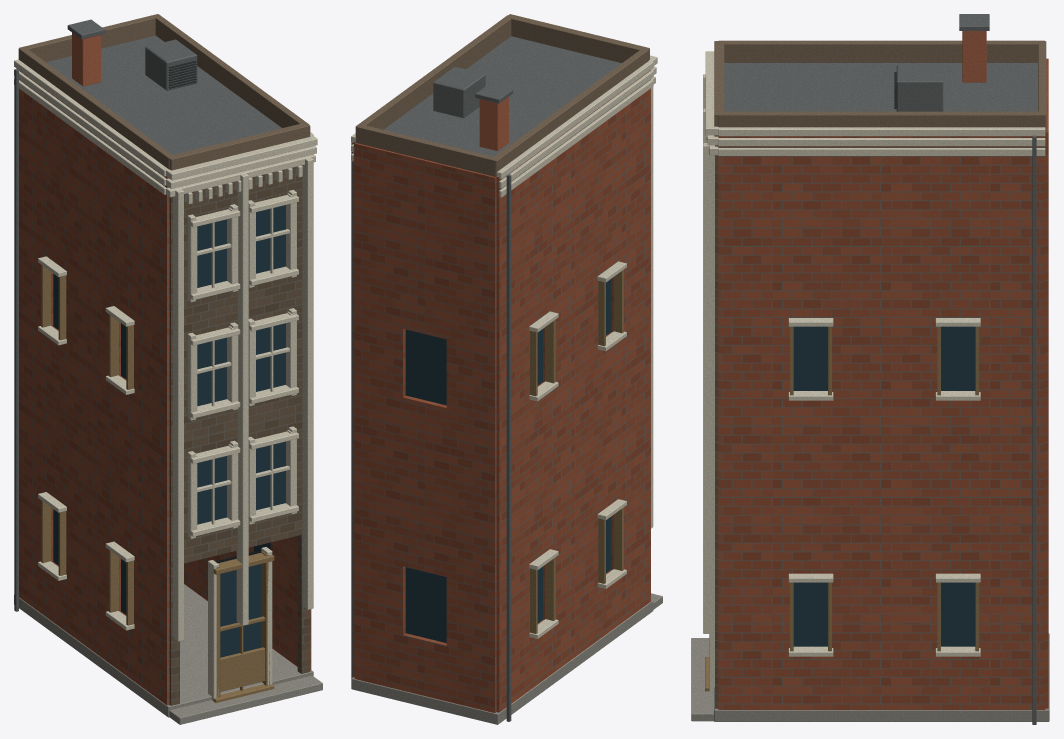
The model's file is OFFC14_lod1.glb.
3 views of the same model, side by side, from view 1: azimuth 30°, elevation 25°; view 2: azimuth 150°, elevation 25°; view 3: azimuth 270°, elevation 25° (orthographic). The views are drawn at different scales.
Parts seen in each view (by area): view 1: OFFC14_LOD1; view 2: OFFC14_LOD1; view 3: OFFC14_LOD1.
Boxes of the visible parts, box(x1,y1,x2,y2) form: OFFC14_LOD1: box(14, 14, 322, 724); OFFC14_LOD1: box(351, 14, 662, 724); OFFC14_LOD1: box(691, 14, 1049, 724).
Size of the model in its own units: 3.71 by 13.05 by 6.57.
Materials: 11 (9 with a texture image).
